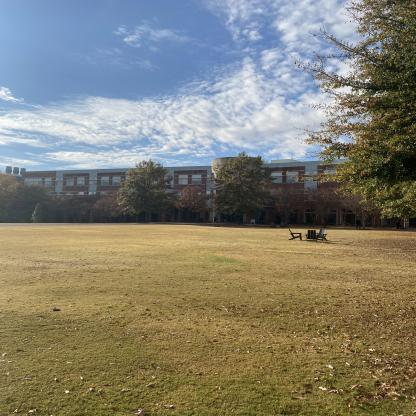EB-1: (0, 160, 416, 234)
